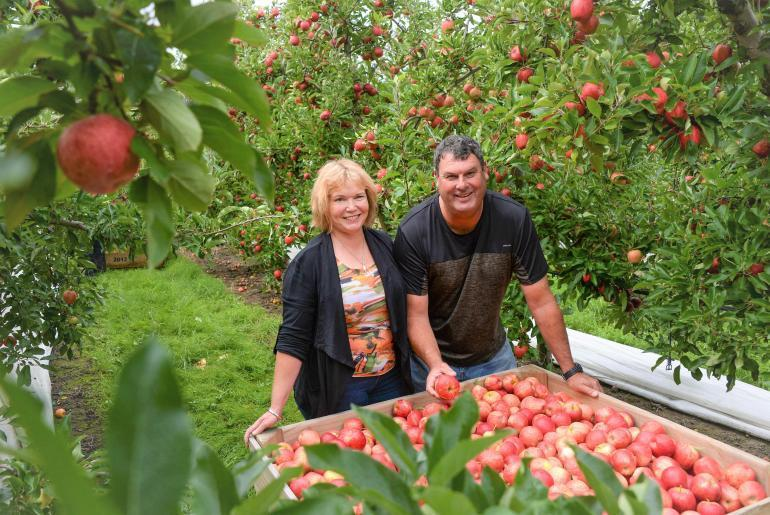apple: (58, 111, 143, 196)
